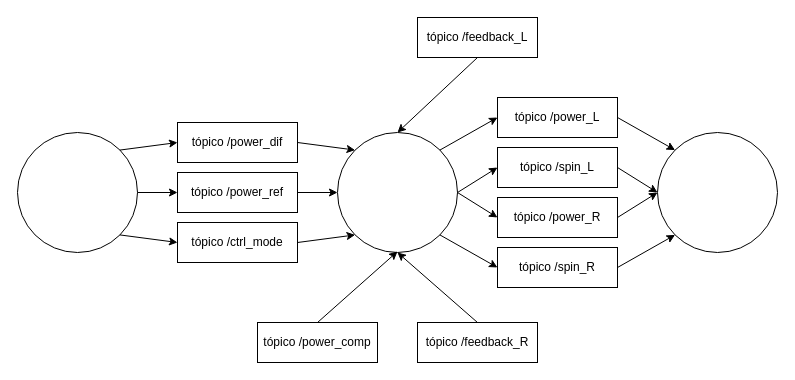
Some shapes in this 795 by 380 pixel diagram are drawn without their labels. Here are the shapes that lost their labels. From the top down, the centre of each, then its label:
At (77,192): "nó /steering_whell".
At (397,192): "nó /controller".
At (717,192): "nó /driver_motor".
